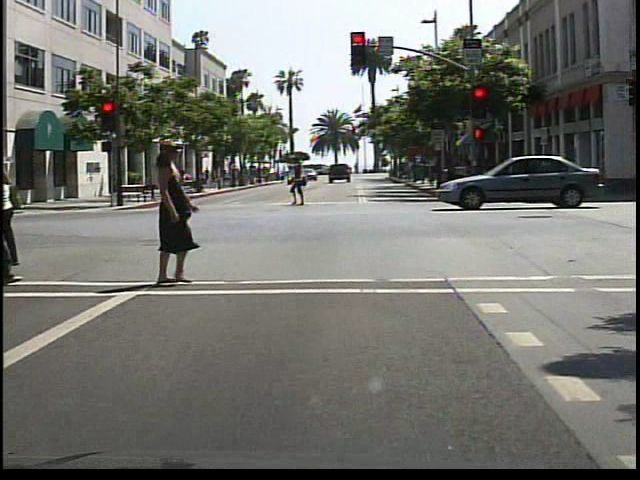person: (138, 136, 214, 284), (6, 162, 34, 272), (1, 145, 14, 292), (287, 158, 316, 208), (175, 164, 188, 189)
